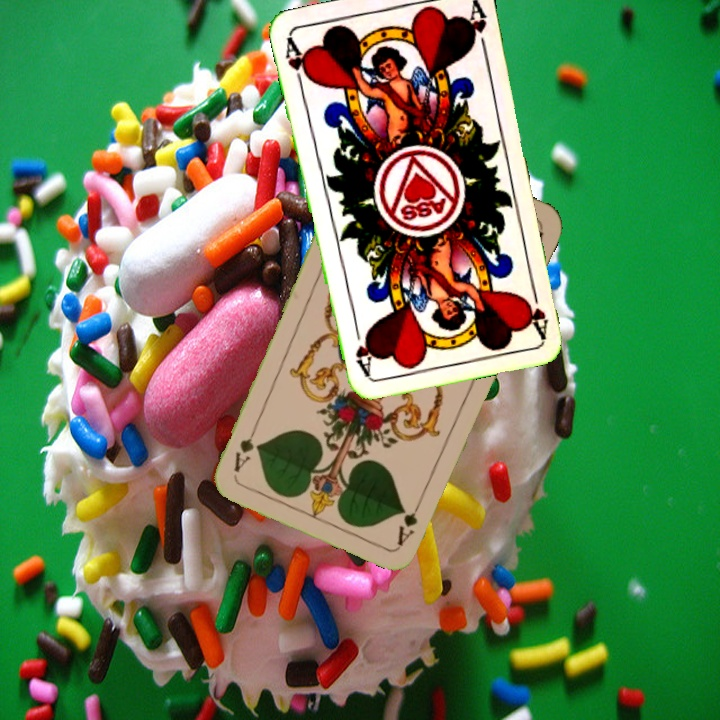GA: (393, 491, 426, 548)
HA: (280, 34, 313, 93), (522, 279, 551, 339)
